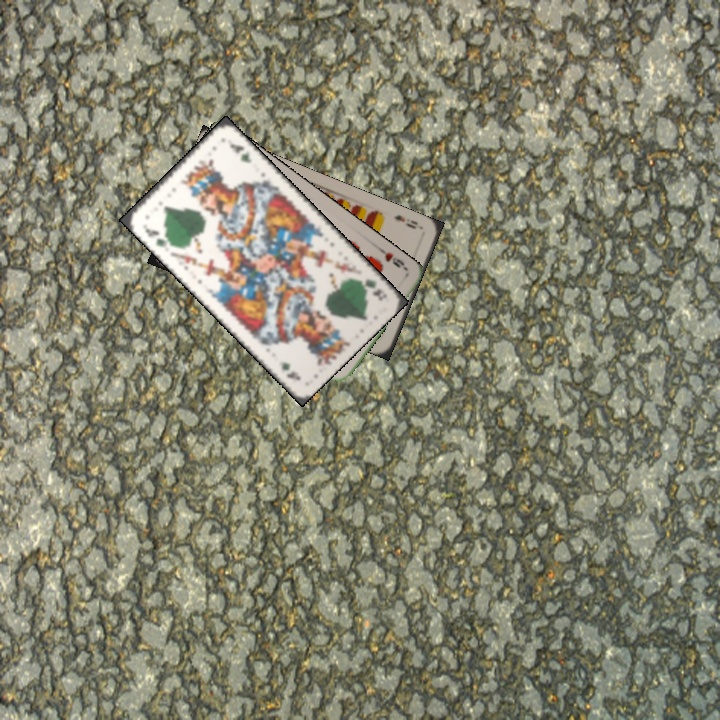E9: (390, 210, 425, 232)
GK: (352, 274, 389, 304), (138, 221, 173, 250)
H9: (374, 243, 409, 273)
